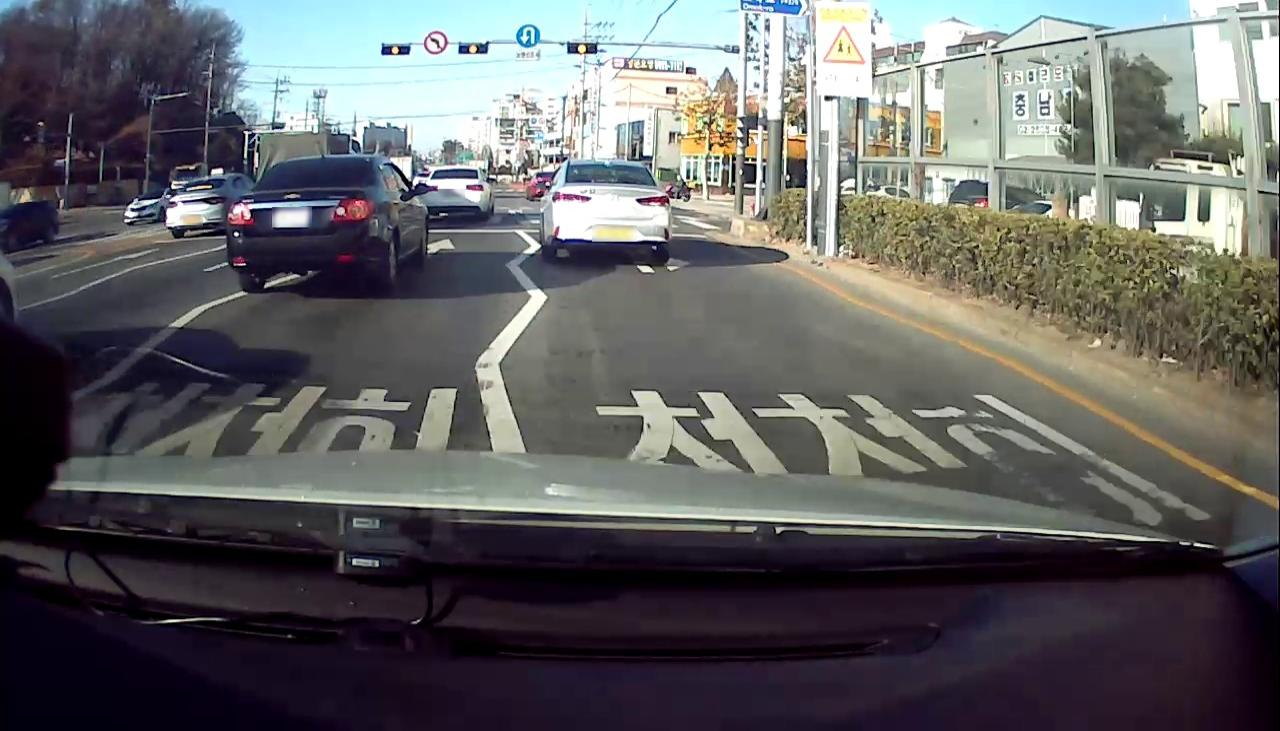Yellow Light: (576, 43, 588, 54), (390, 43, 400, 55), (468, 42, 478, 54)
